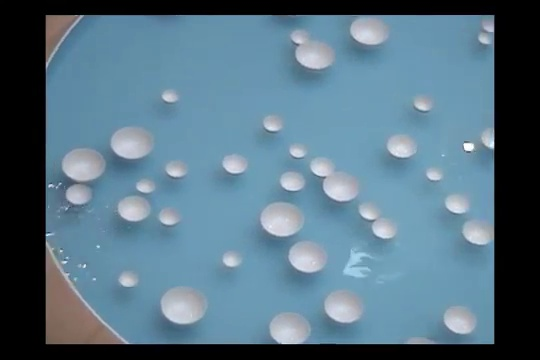bowl: (159, 285, 208, 324), (258, 201, 306, 239), (59, 146, 110, 181), (109, 124, 156, 160), (287, 240, 333, 275), (266, 310, 313, 344), (323, 290, 365, 324), (348, 16, 392, 46), (294, 41, 335, 71), (442, 304, 478, 335), (322, 173, 360, 202), (115, 194, 152, 223), (385, 132, 420, 159), (62, 181, 98, 205), (462, 218, 493, 245), (220, 151, 250, 174), (370, 217, 398, 240), (445, 192, 471, 215), (279, 170, 306, 190), (163, 160, 190, 179), (157, 207, 184, 226), (358, 199, 381, 221), (220, 249, 244, 269), (413, 93, 434, 115), (118, 269, 141, 289), (310, 156, 334, 175), (261, 115, 286, 133), (425, 164, 445, 184), (135, 177, 158, 194), (480, 125, 495, 151), (402, 334, 436, 345), (288, 140, 308, 158), (160, 87, 180, 104), (289, 28, 310, 44), (478, 30, 494, 46), (483, 16, 495, 34)
